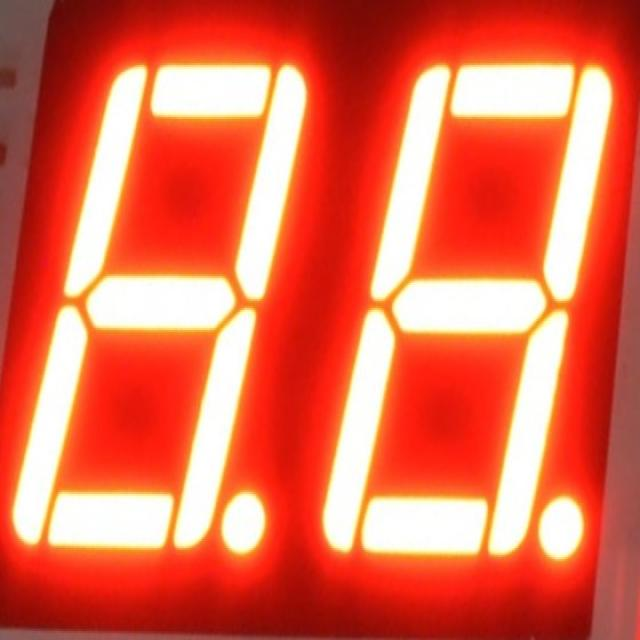.: (531, 486, 590, 576), (210, 482, 270, 565)
8: (0, 48, 312, 561), (320, 44, 619, 566)
